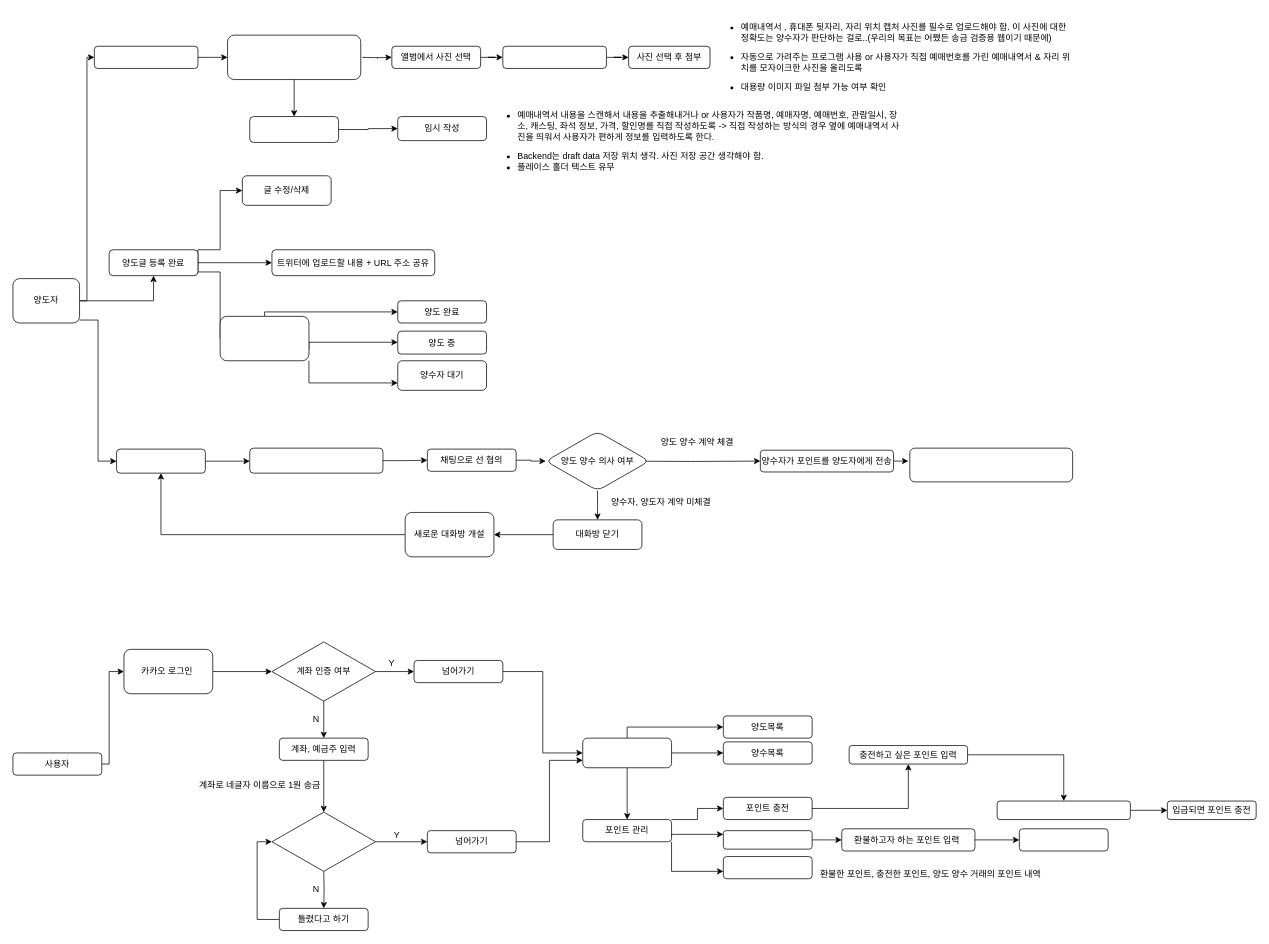
This 1269x944 diagram has some shape labels left out. The centre of each missing label's shape, as x and y in pixels:
내용 작성: point 294,129
네글자 일치 여부: point 323,841
등록된 계좌로 송금: point 1063,839
양도 상태 변경: point 264,338
양도자에게 포인트를 전송하고 양수자에게 예매내역서 & 휴대폰 뒷자리 전송(메일로): point 991,464
양수자의 대화방 참여: point 160,460
예매내역서, 예매번호 가린 예매내역서, 자리 위치 캡처 사진, 자리 위치에 스티커 붙인 사진 업로드: point 294,57
카톡 or 메일로 참여 소식 알리기: point 316,460
티켓 거래 게시물을 작성: point 146,57
포인트 사용 내역: point 767,867
포인트 환불: point 767,839
해당 유저의 가상 계좌 제시: point 1063,810
홈 화면: point 627,752
휴대폰 갤러리(포토) 실행: point 554,57
